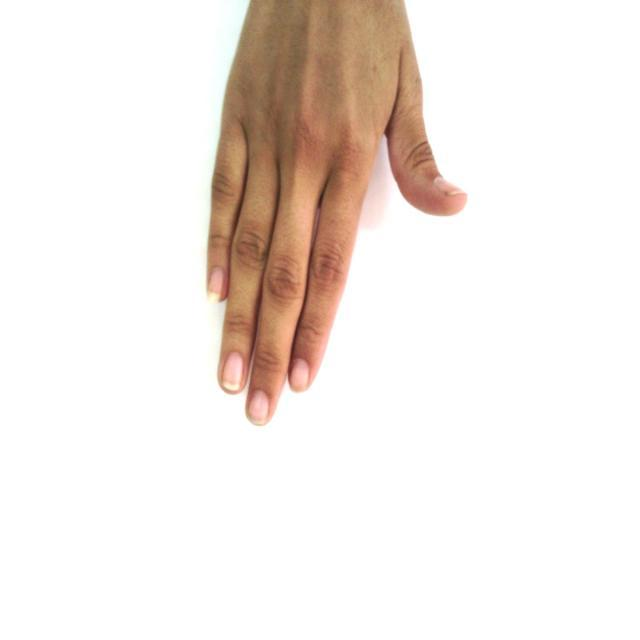Fingernail: (223, 353, 243, 391), (250, 390, 269, 424), (291, 360, 309, 393), (435, 177, 462, 195), (209, 269, 223, 299)
